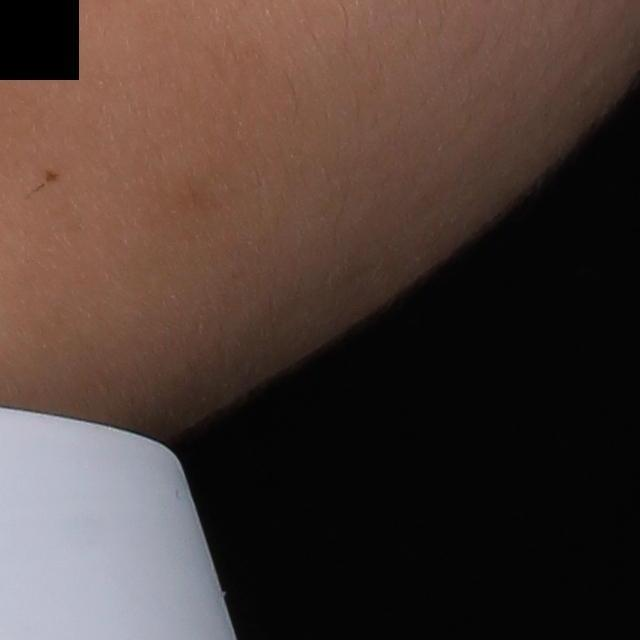nevus: (42, 168, 65, 188)
